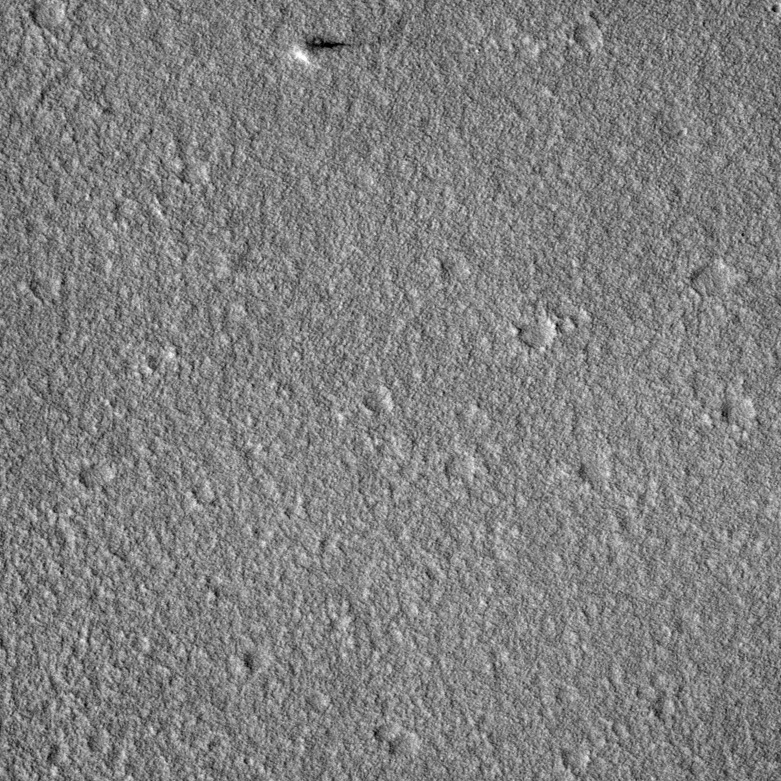dust_devil: (290, 34, 354, 70)
